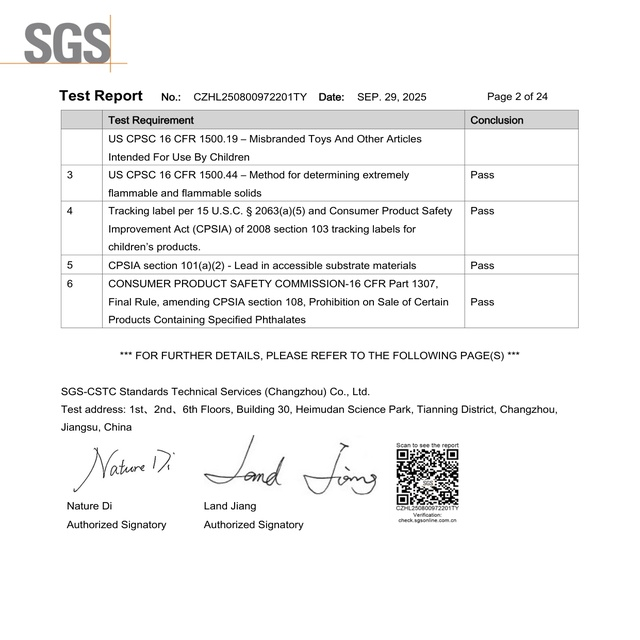sgs: (24, 22, 112, 62)
